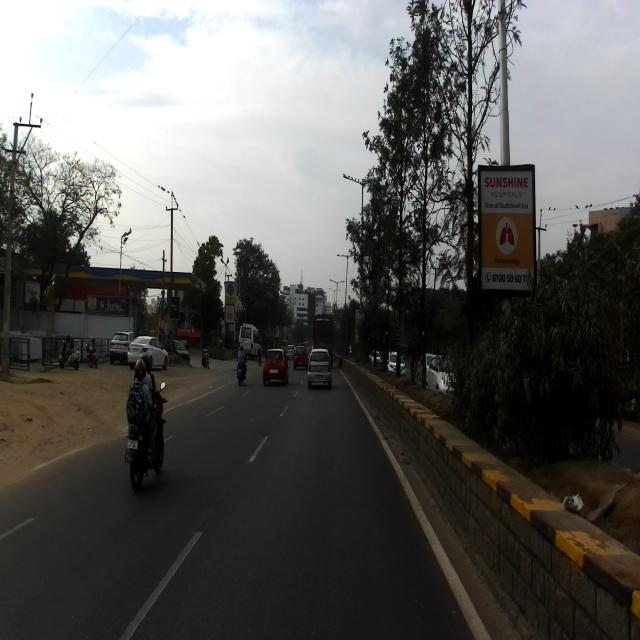motorcycle ahead at: (116, 396, 175, 498)
